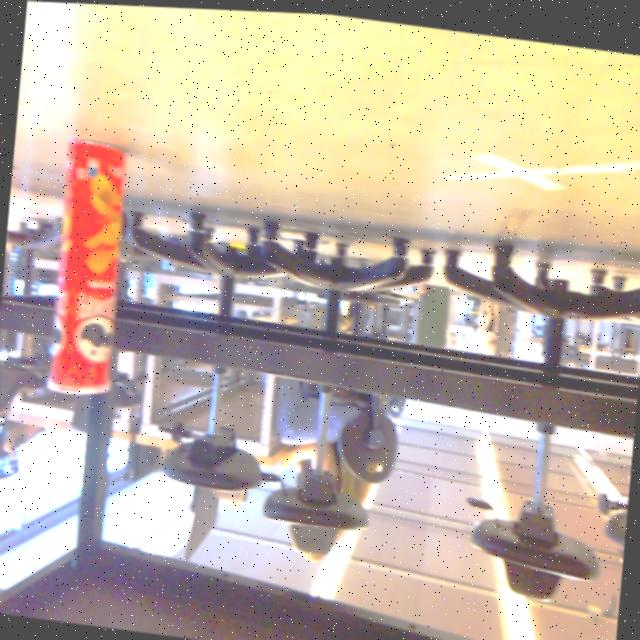redpringles: (32, 127, 146, 413)
